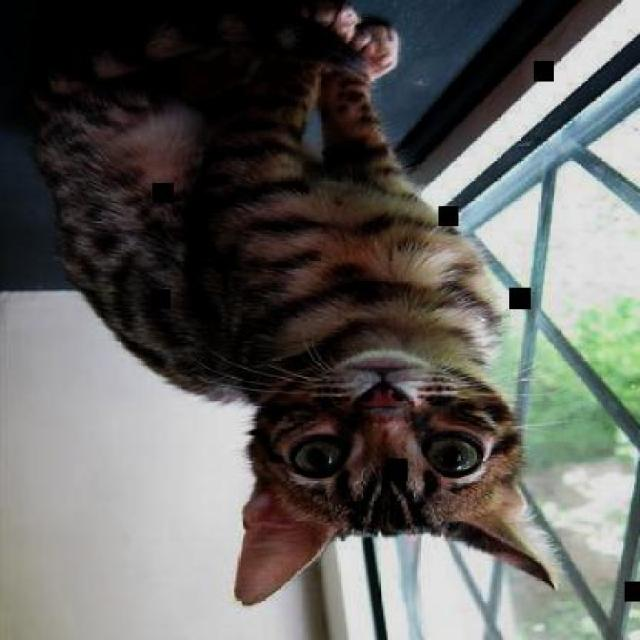cat: (29, 1, 556, 607)
